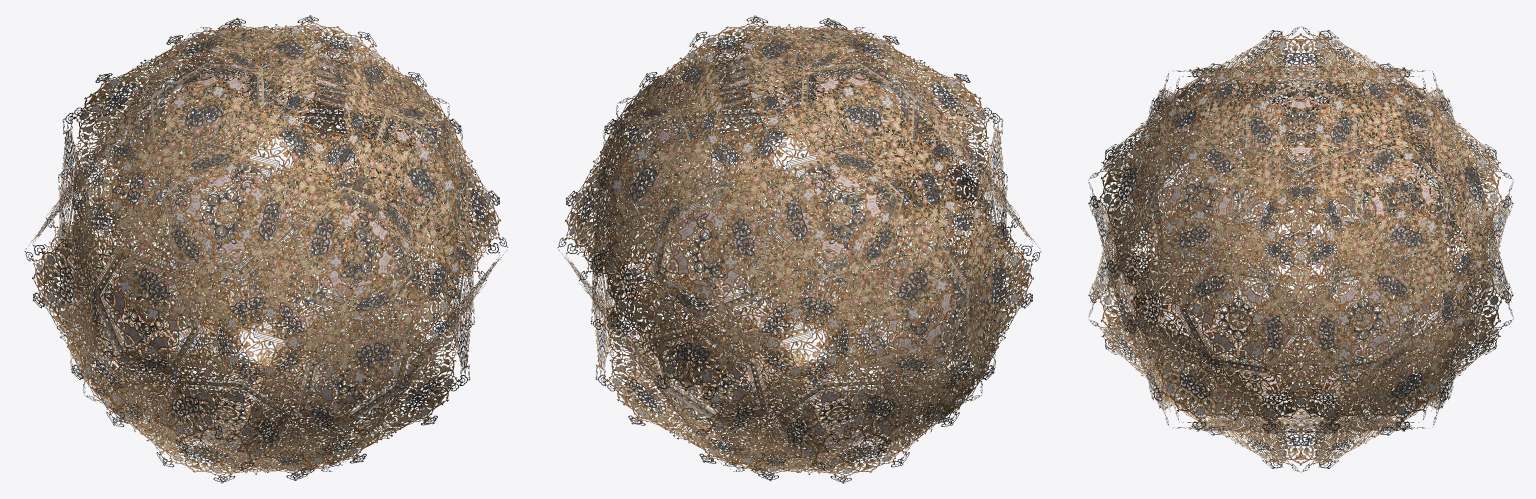
Rendered from SmallTriambicIcosahedron3.gltf.
3 renders of one model, left to right at view 1: azimuth 30°, elevation 25°; view 2: azimuth 150°, elevation 25°; view 3: azimuth 270°, elevation 25°, orthographic. The views are drawn at different scales.
Parts seen in each view (by area): view 1: SmallTriambicIcosahedron; view 2: SmallTriambicIcosahedron; view 3: SmallTriambicIcosahedron.
Part boxes in pixels (box(x1,y1,x2,y2)): SmallTriambicIcosahedron: box(24, 15, 508, 483); SmallTriambicIcosahedron: box(557, 15, 1041, 483); SmallTriambicIcosahedron: box(1088, 26, 1513, 472).
Size of the model in its own units: 1.45 by 1.45 by 1.45.
Materials: 1 (1 with a texture image).
